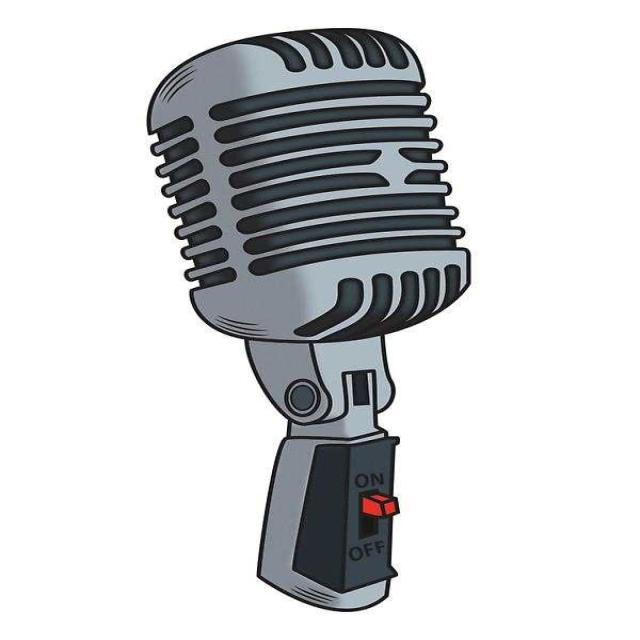microphone: (158, 52, 476, 622)
